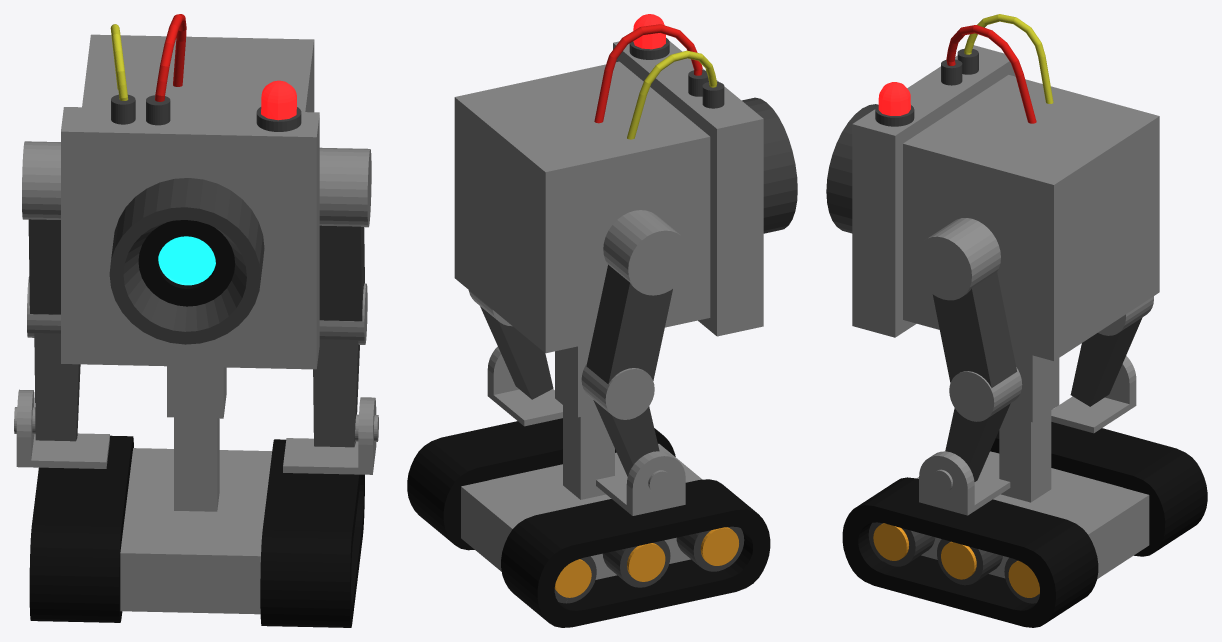
Rendered from robot.gltf.
3 renders of one model, left to right at view 1: azimuth 30°, elevation 25°; view 2: azimuth 150°, elevation 25°; view 3: azimuth 270°, elevation 25°, orthographic. The views are drawn at different scales.
Parts seen in each view (by area): view 1: Butter Bot.002; view 2: Butter Bot.002; view 3: Butter Bot.002.
Boxes of the visible parts, x1=… form: Butter Bot.002: x1=14, y1=14, x2=378, y2=627; Butter Bot.002: x1=407, y1=14, x2=797, y2=627; Butter Bot.002: x1=826, y1=14, x2=1207, y2=627.
Bounding box in the file's own units: 0.2793 × 0.422 × 0.286.
